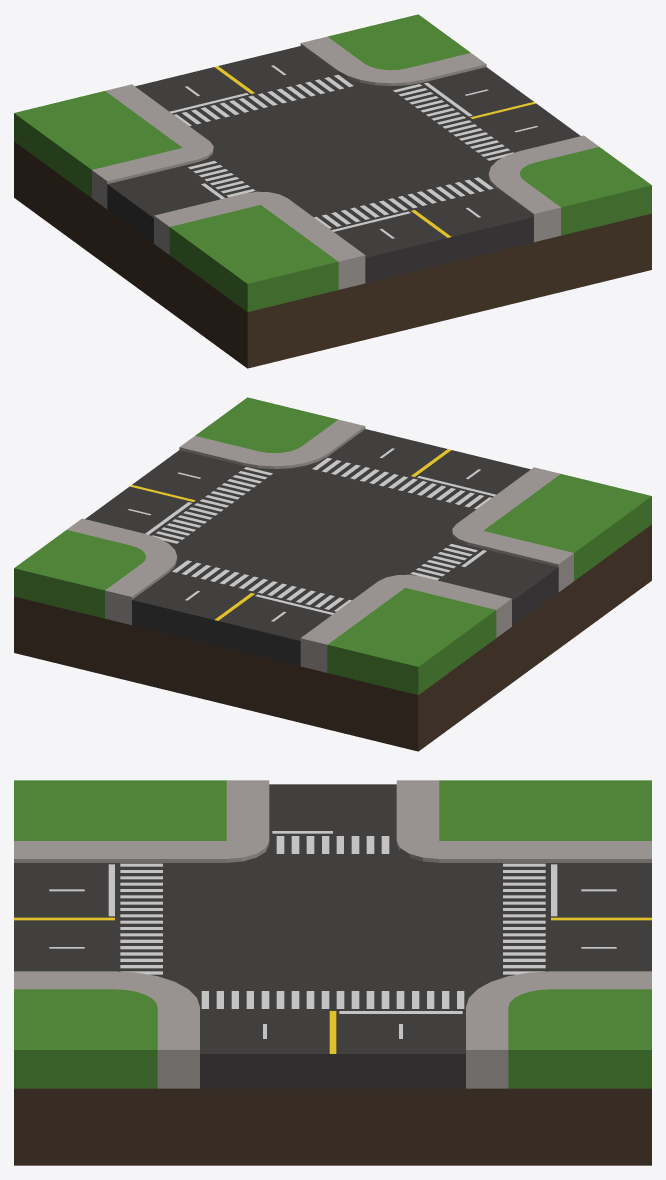
File: tiles_tile-mainroad-road-intersection.fbx
3 views of the same model, one above another, from view 1: azimuth 30°, elevation 25°; view 2: azimuth 150°, elevation 25°; view 3: azimuth 270°, elevation 25° (orthographic). The views are drawn at different scales.
Parts seen in each view (by area): view 1: tiles_tile_mainroad_road_intersection; view 2: tiles_tile_mainroad_road_intersection; view 3: tiles_tile_mainroad_road_intersection.
Boxes of the visible parts, left/top/right/bottom form: tiles_tile_mainroad_road_intersection: left=14, top=14, right=651, bottom=368; tiles_tile_mainroad_road_intersection: left=14, top=397, right=651, bottom=751; tiles_tile_mainroad_road_intersection: left=14, top=780, right=651, bottom=1165.
Bounding box in the file's own units: 200 × 40 × 200.
